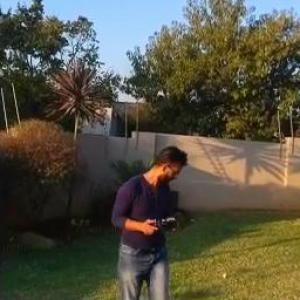follow: (105, 142, 191, 299)
